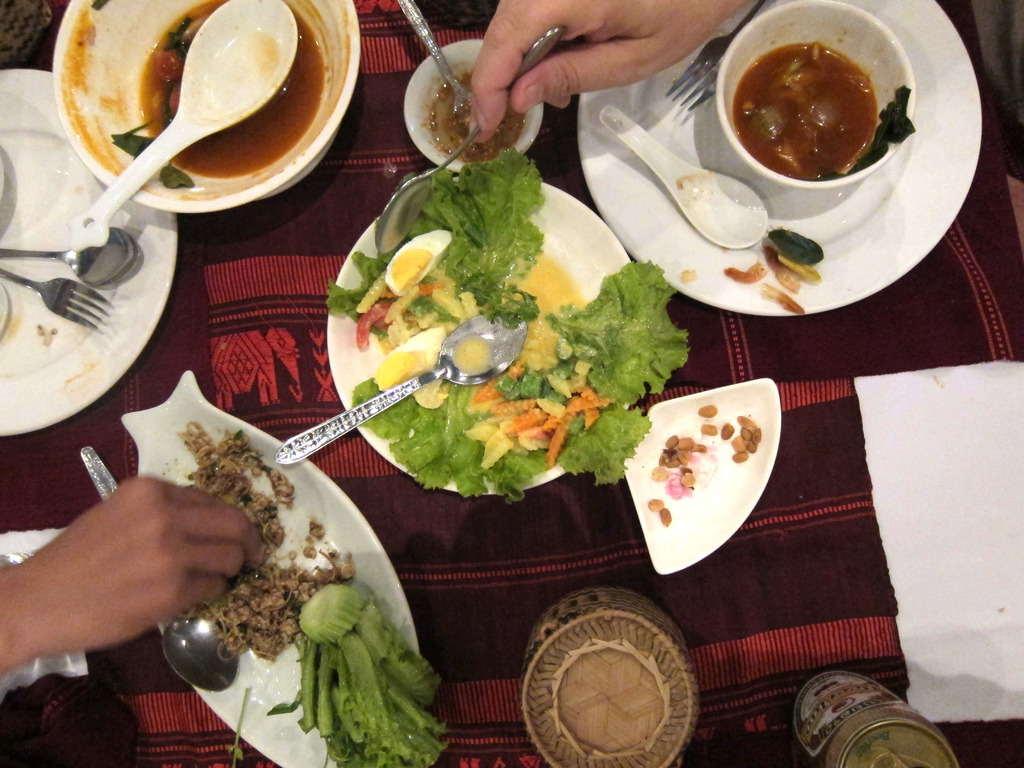salad: (313, 161, 701, 525)
